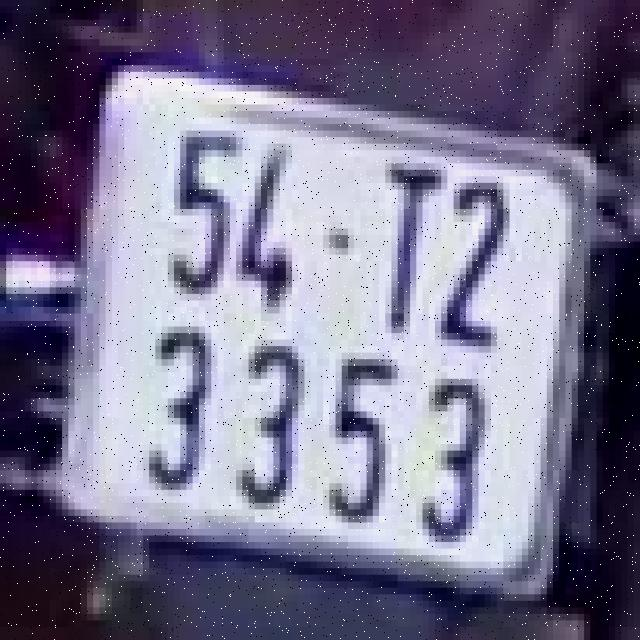2: (417, 156, 545, 372)
3: (410, 369, 491, 565), (236, 327, 311, 522), (143, 317, 211, 493)
4: (230, 124, 304, 314)
5: (314, 349, 401, 539), (165, 121, 233, 310)
T: (344, 158, 457, 350)
